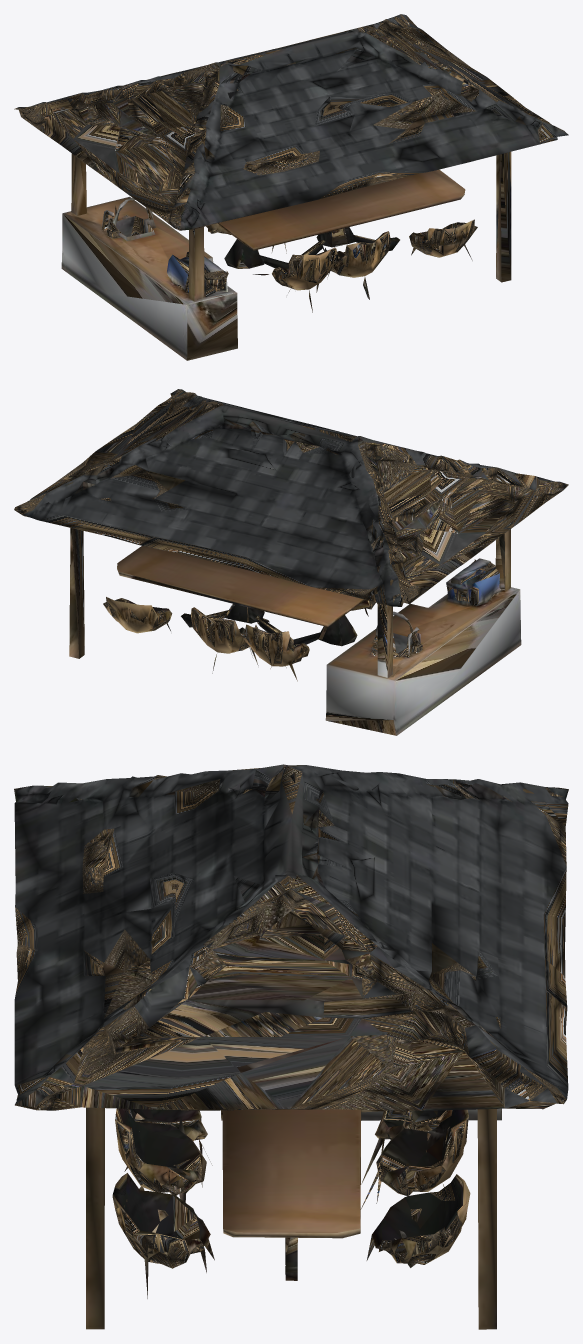
File: Tiki_Pavilion.glb
The picture shows the model from 3 angles, top to bottom: view 1: azimuth 30°, elevation 25°; view 2: azimuth 150°, elevation 25°; view 3: azimuth 270°, elevation 25°; orthographic projection. The views are drawn at different scales.
Parts seen in each view (by area): view 1: Tiki_Pavilion; view 2: Tiki_Pavilion; view 3: Tiki_Pavilion.
Boxes of the visible parts, x1,y1,x2,y2 form: Tiki_Pavilion: (14, 14, 568, 360); Tiki_Pavilion: (14, 389, 568, 735); Tiki_Pavilion: (14, 764, 568, 1329).
Size of the model in its own units: 1.9 by 1.06 by 1.4.
1 material, 1 textured.
